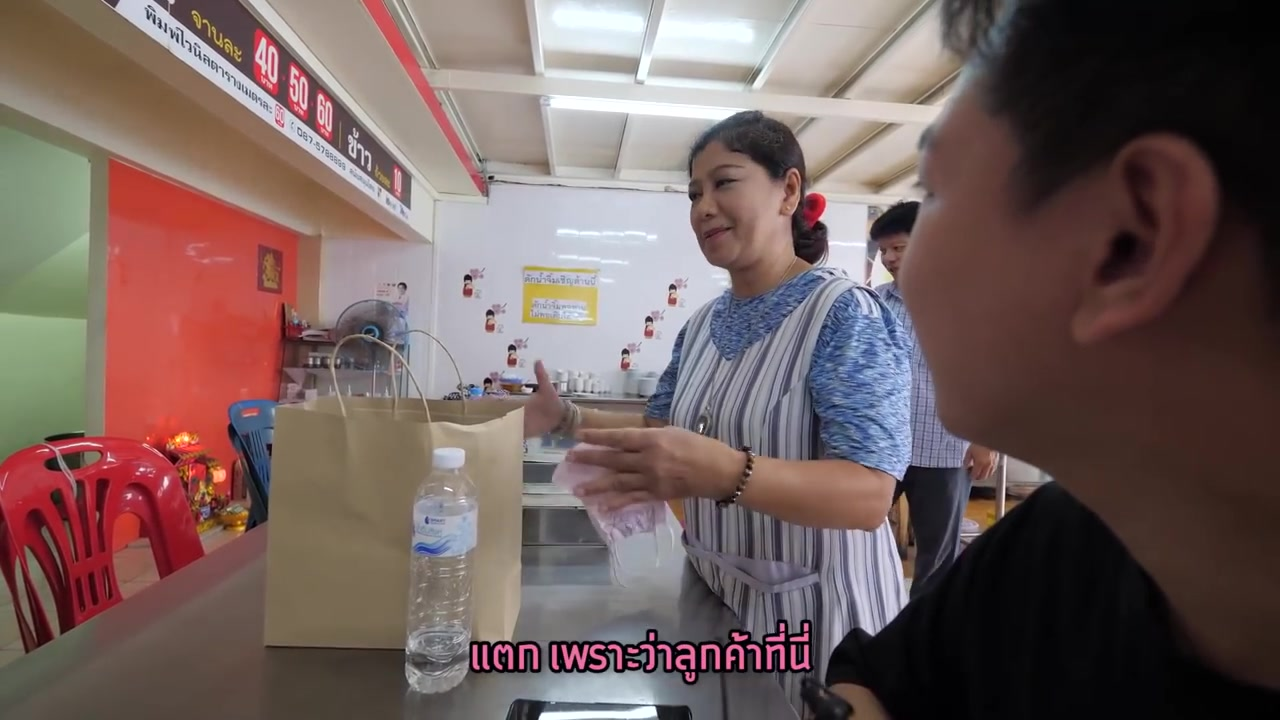text-label: (467, 615, 817, 687)
